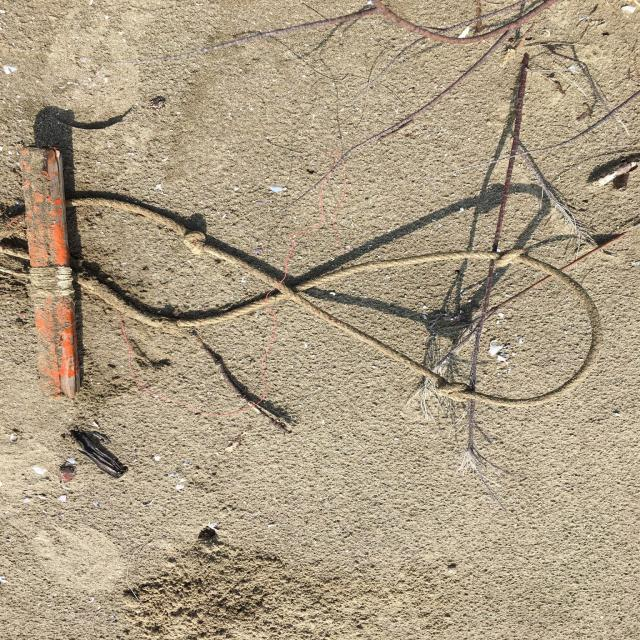litter: (288, 247, 607, 408), (65, 199, 287, 332), (20, 145, 87, 397)
